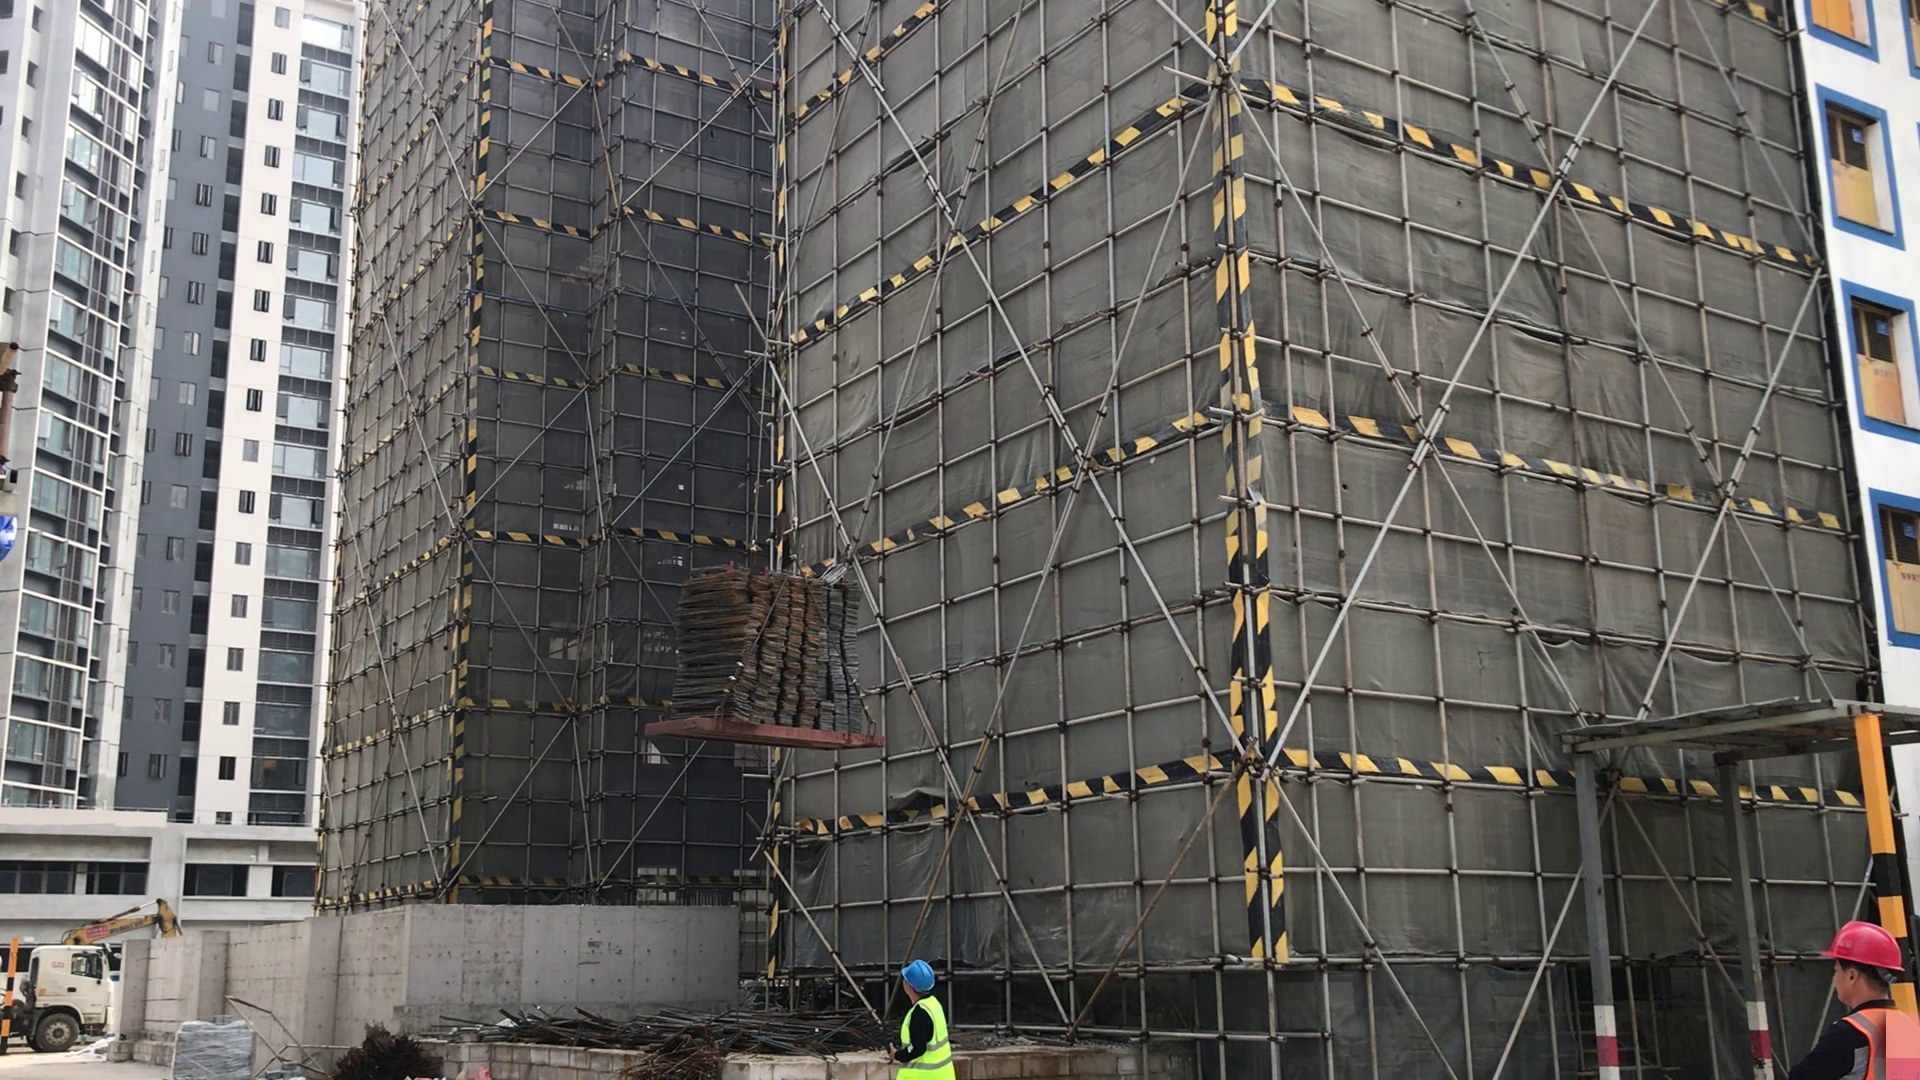helmet: (1825, 915, 1908, 975), (897, 961, 935, 993)
person: (1793, 920, 1920, 1080), (889, 956, 958, 1080)
vest: (1836, 1000, 1920, 1080), (901, 1000, 952, 1080)
